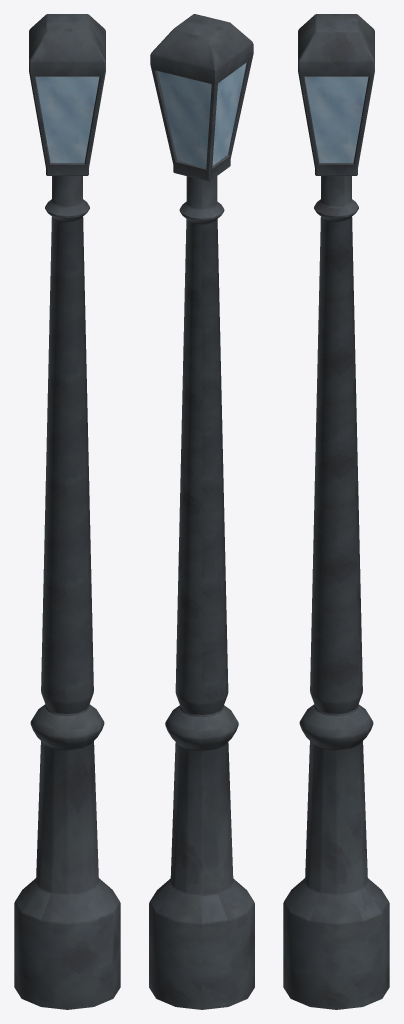
The model's file is Lamp post.fbx.
3 views of the same model, side by side, from view 1: azimuth 90°, elevation 25°; view 2: azimuth 150°, elevation 25°; view 3: azimuth 270°, elevation 25° (orthographic).
Parts seen in each view (by area): view 1: Lamp post; view 2: Lamp post; view 3: Lamp post.
Part boxes in pixels (box(x1,y1,x2,y2)): Lamp post: box(14, 14, 120, 1009); Lamp post: box(149, 14, 254, 1009); Lamp post: box(283, 14, 389, 1009).
Bounding box in the file's own units: 40.14 × 403 × 40.14.
